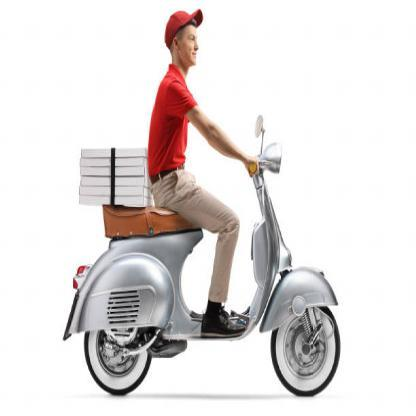Motorcycle: (56, 125, 344, 395)
